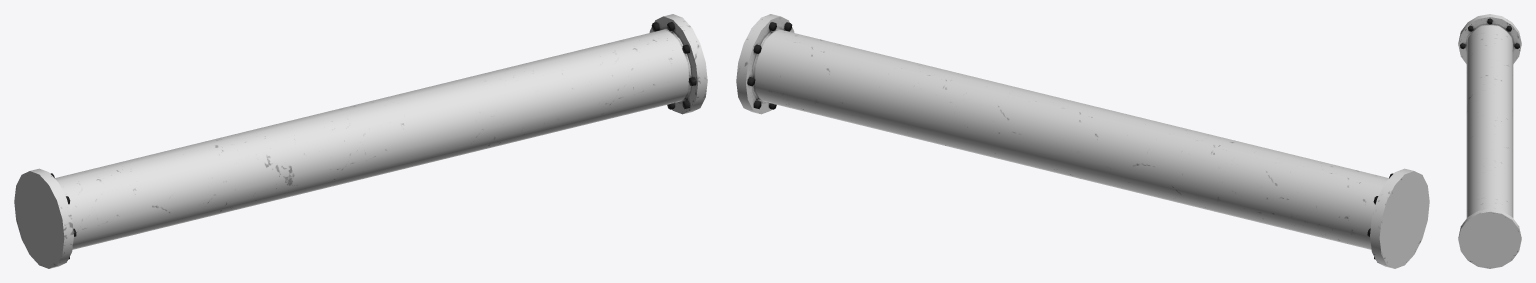
Rendered from Pipe_100cm.fbx.
3 renders of one model, left to right at view 1: azimuth 30°, elevation 25°; view 2: azimuth 150°, elevation 25°; view 3: azimuth 270°, elevation 25°, orthographic. The views are drawn at different scales.
Visible parts, largest first — view 1: Pipe_100cm; view 2: Pipe_100cm; view 3: Pipe_100cm.
Part boxes in pixels (<box>): Pipe_100cm: <box>14,14,707,268</box>; Pipe_100cm: <box>736,14,1429,268</box>; Pipe_100cm: <box>1458,14,1521,268</box>.
Bounding box in the file's own units: 100 × 13.5 × 13.5.
